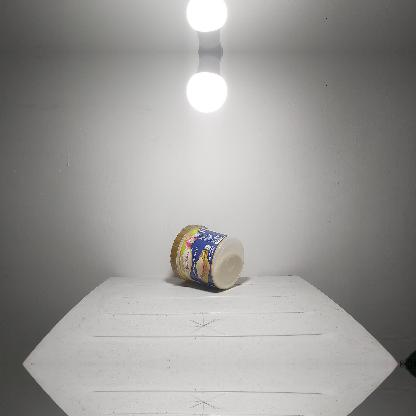Lady-s-Choice: (170, 224, 244, 288)
